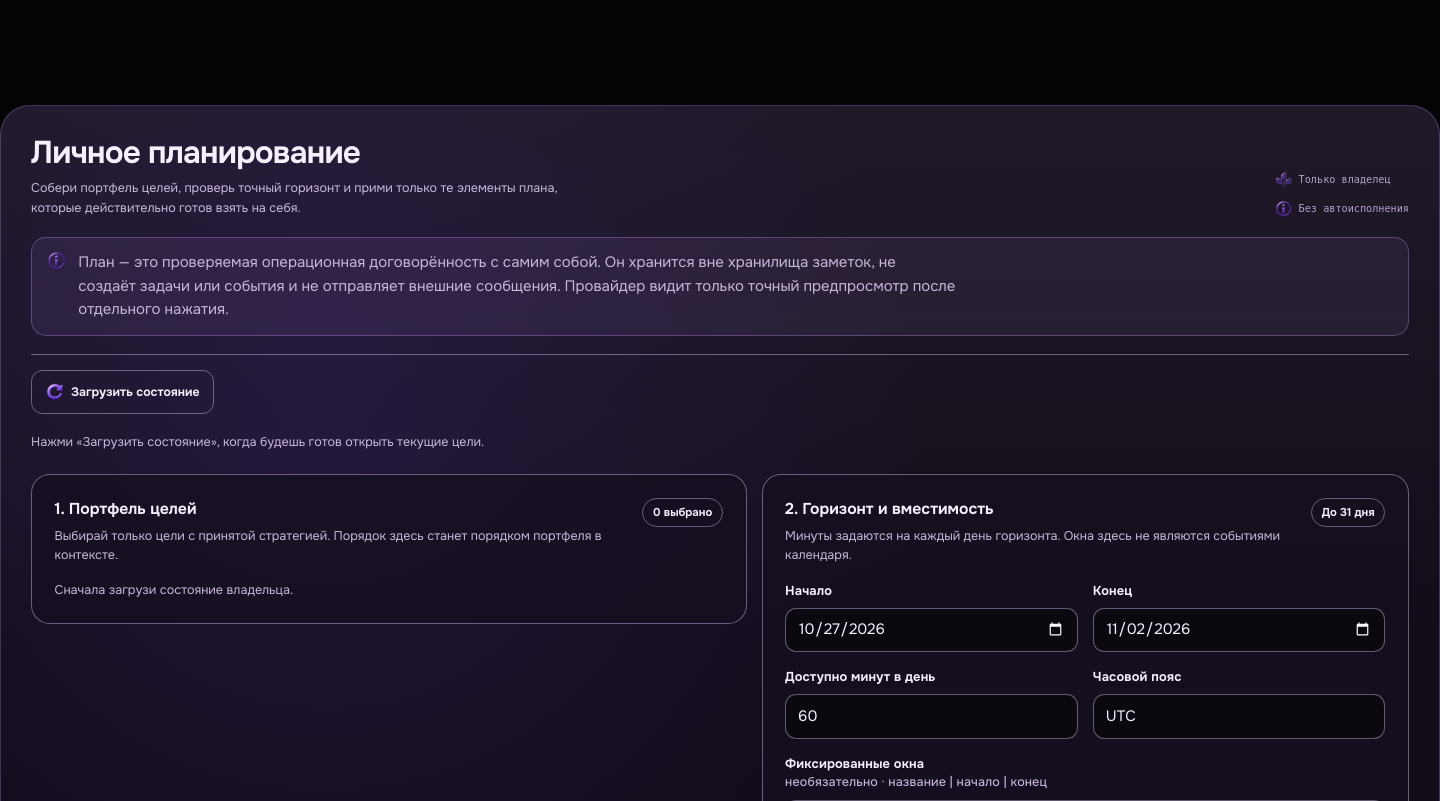
Test: Русская поверхность личного планирования › не загружает и не вызывает провайдера до явного действия владельца
Click the button "Загрузить состояние" at (123, 392), box [31,370,214,414]
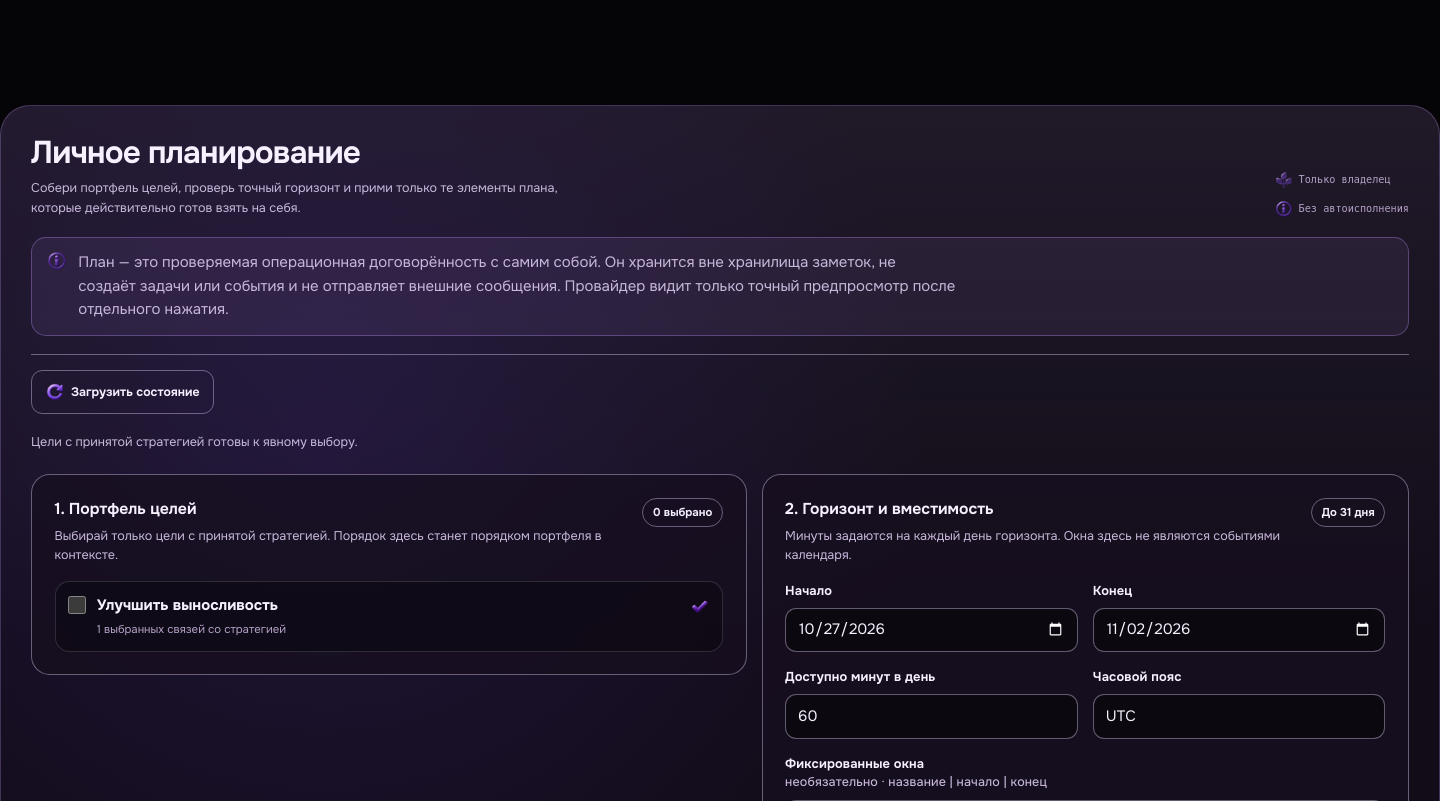
Now the text "Улучшить выносливость" is shown, box [97,596,278,616]
